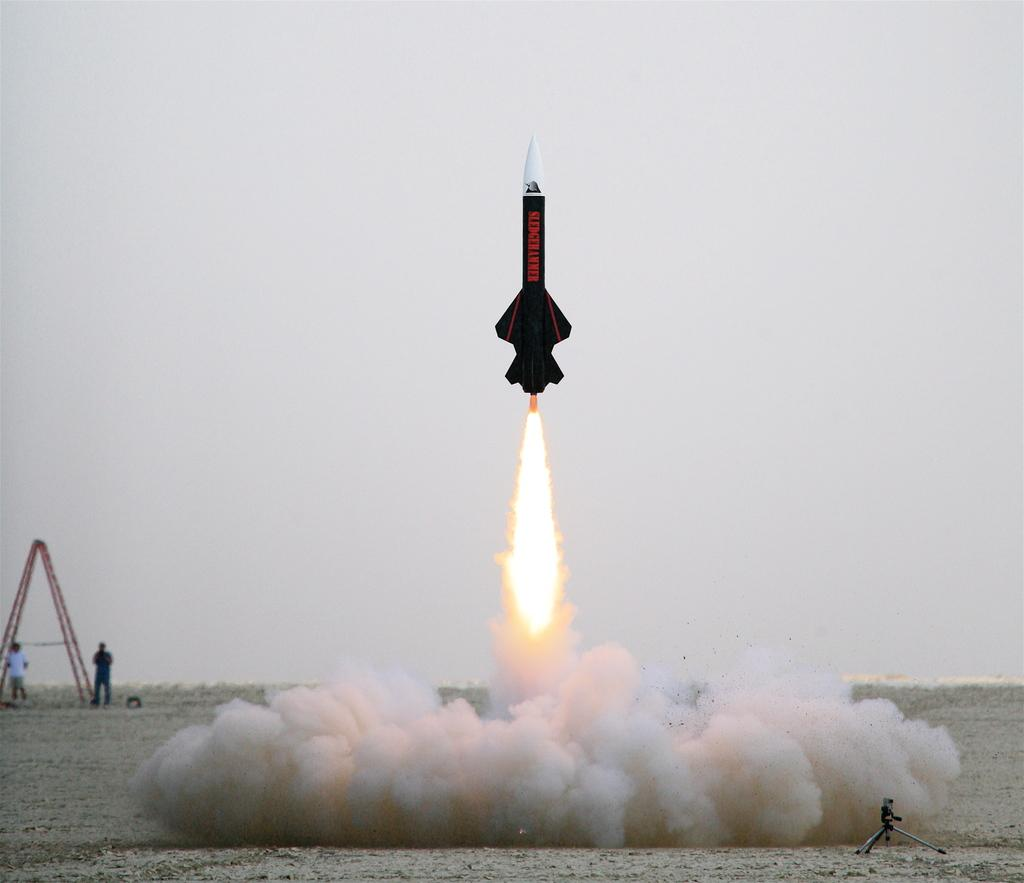Missile: (490, 131, 578, 393)
